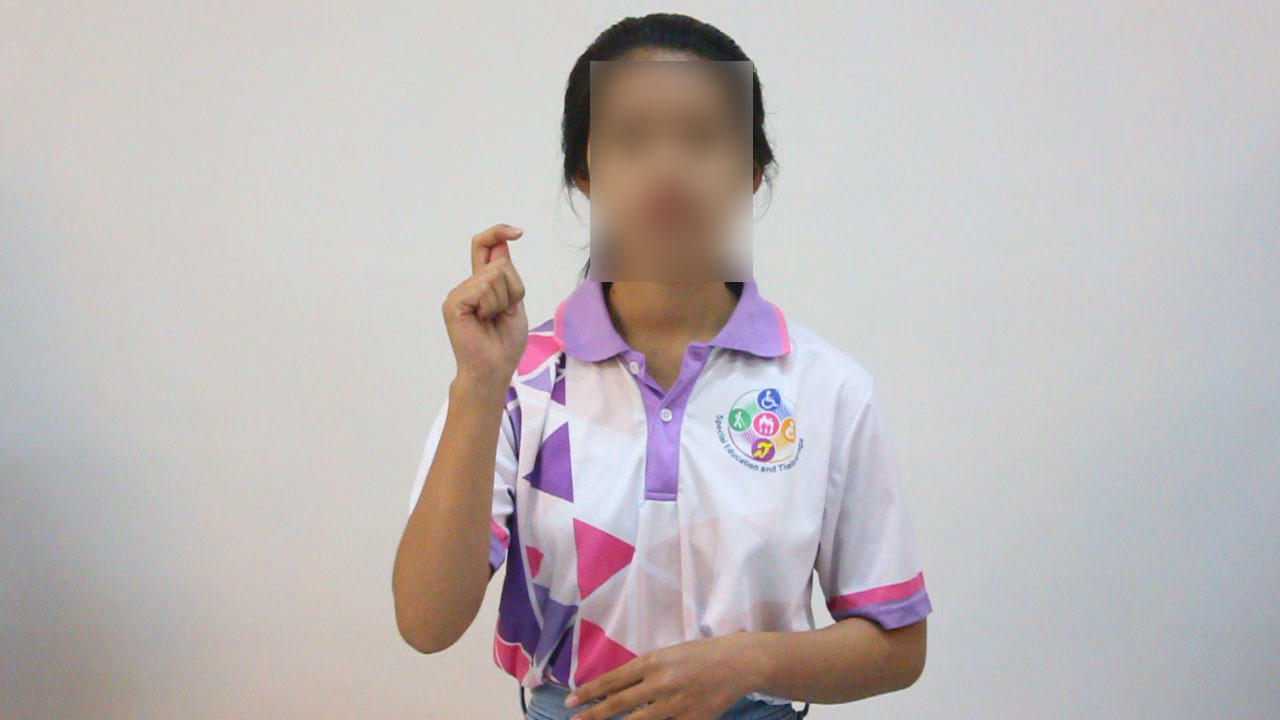or: (437, 211, 540, 395)
